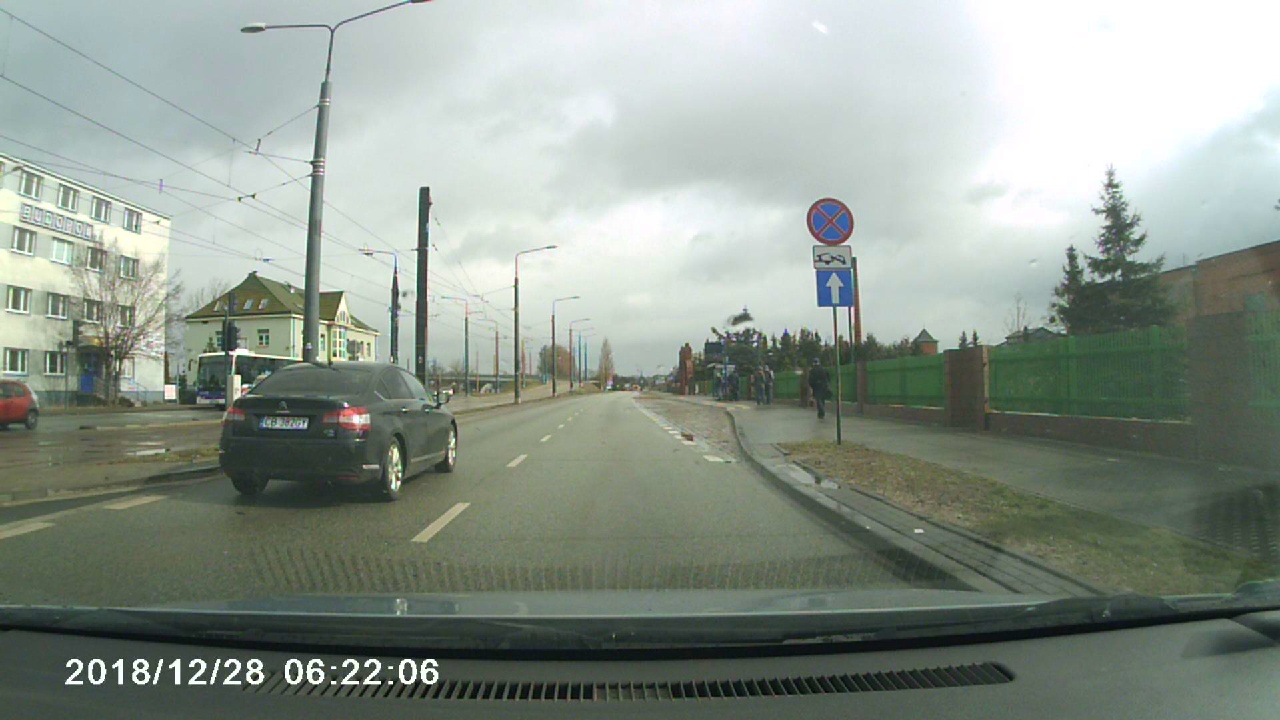B35: (803, 194, 858, 245)
D3: (811, 265, 858, 309)
